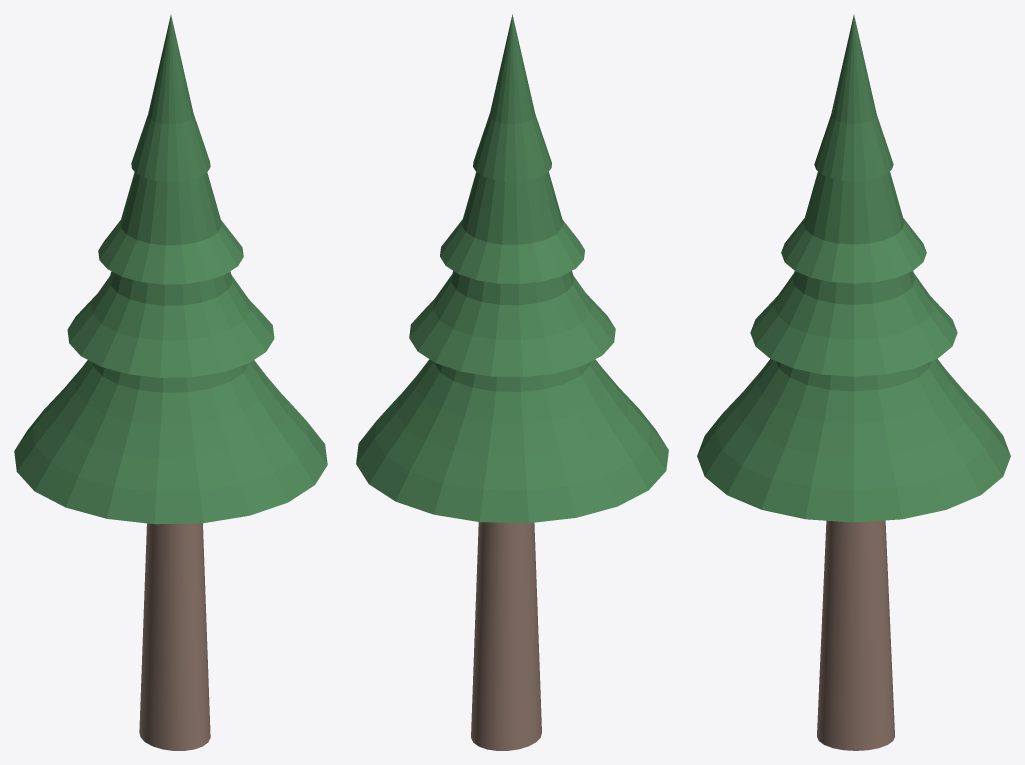
File: EvergreenTree.fbx
3 views of the same model, side by side, from view 1: azimuth 30°, elevation 25°; view 2: azimuth 150°, elevation 25°; view 3: azimuth 270°, elevation 25° (orthographic).
Visible parts, largest first — view 1: EverGreenTreeTop, EverGreenTrunk; view 2: EverGreenTreeTop, EverGreenTrunk; view 3: EverGreenTreeTop, EverGreenTrunk.
Boxes of the visible parts, x1=… form: EverGreenTreeTop: x1=14, y1=15, x2=327, y2=524; EverGreenTrunk: x1=139, y1=523, x2=210, y2=750; EverGreenTreeTop: x1=356, y1=14, x2=668, y2=523; EverGreenTrunk: x1=471, y1=522, x2=541, y2=750; EverGreenTreeTop: x1=697, y1=15, x2=1010, y2=522; EverGreenTrunk: x1=817, y1=520, x2=894, y2=750.
Size of the model in its own units: 7.09 by 17.93 by 7.09.
